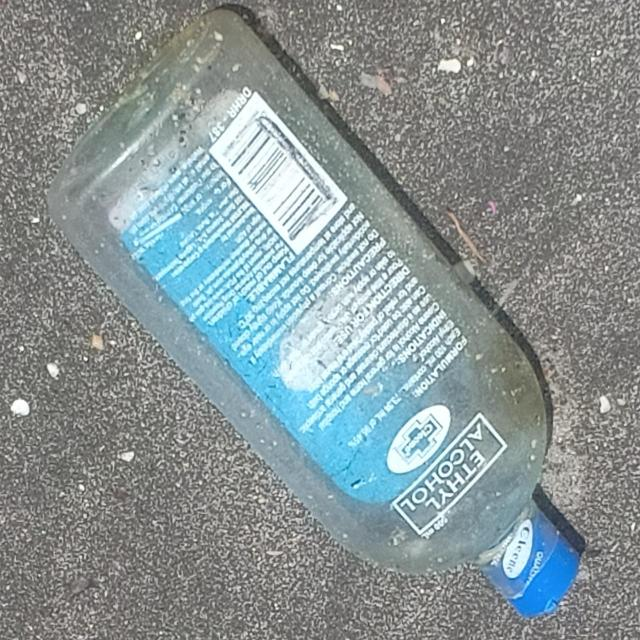plastic_waste: (45, 9, 581, 621)
